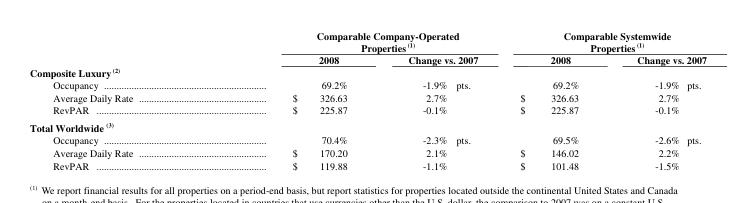table: (29, 28, 706, 171)
table column: (29, 28, 212, 171), (212, 28, 377, 171), (498, 28, 607, 171), (607, 28, 682, 171), (377, 28, 450, 171), (450, 28, 498, 171), (682, 28, 706, 171)
table column header: (29, 28, 706, 66)
table projected row header: (29, 118, 706, 133), (29, 66, 706, 78)
table row: (29, 28, 706, 53), (29, 103, 706, 118), (29, 118, 706, 133), (29, 53, 706, 66), (29, 90, 706, 103), (29, 145, 706, 158), (29, 158, 706, 171), (29, 66, 706, 78), (29, 78, 706, 90), (29, 133, 706, 145)
table spanning cell: (212, 28, 498, 53), (498, 28, 706, 53), (377, 53, 498, 66), (607, 53, 706, 66)
